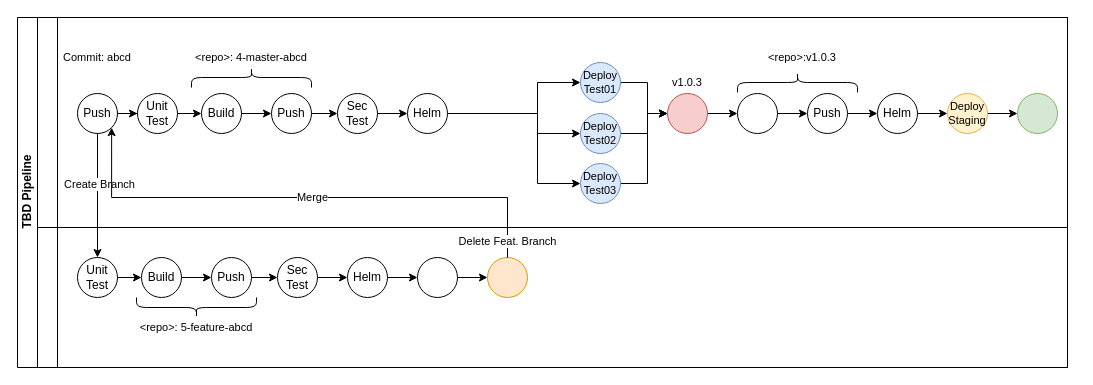
Some shapes in this 1093 by 385 pixel diagram are drawn without their labels. The shapes that lost their labels are listed below. From the top down, each one's box as (x1, y1, x2, y2) in pixels, then its label:
(36, 16, 1068, 228): Master Branch
(666, 92, 708, 134): GIT Tag
(736, 92, 778, 134): Re-tag image
(1016, 92, 1058, 134): Deploy Prod
(416, 256, 458, 298): Create Cluster
(486, 256, 528, 298): Deploy Feat.
(36, 226, 1068, 368): Feature Branch
